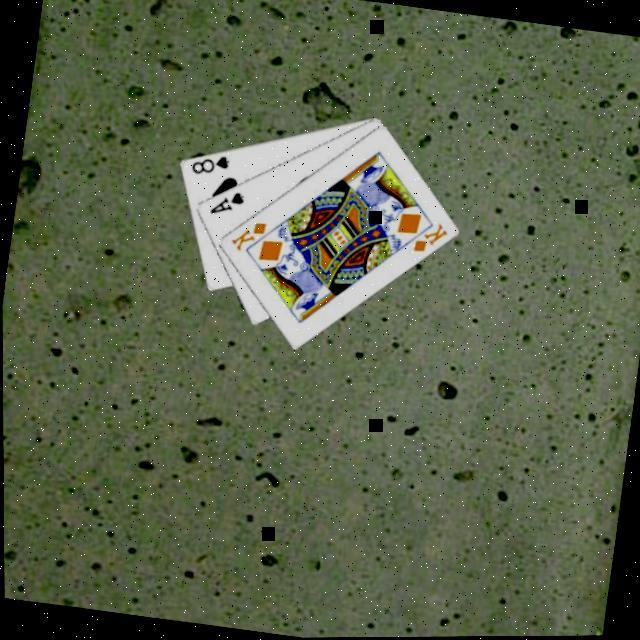8S: (188, 151, 233, 184)
AS: (205, 187, 248, 222)
KD: (408, 219, 452, 261), (227, 218, 270, 260)
